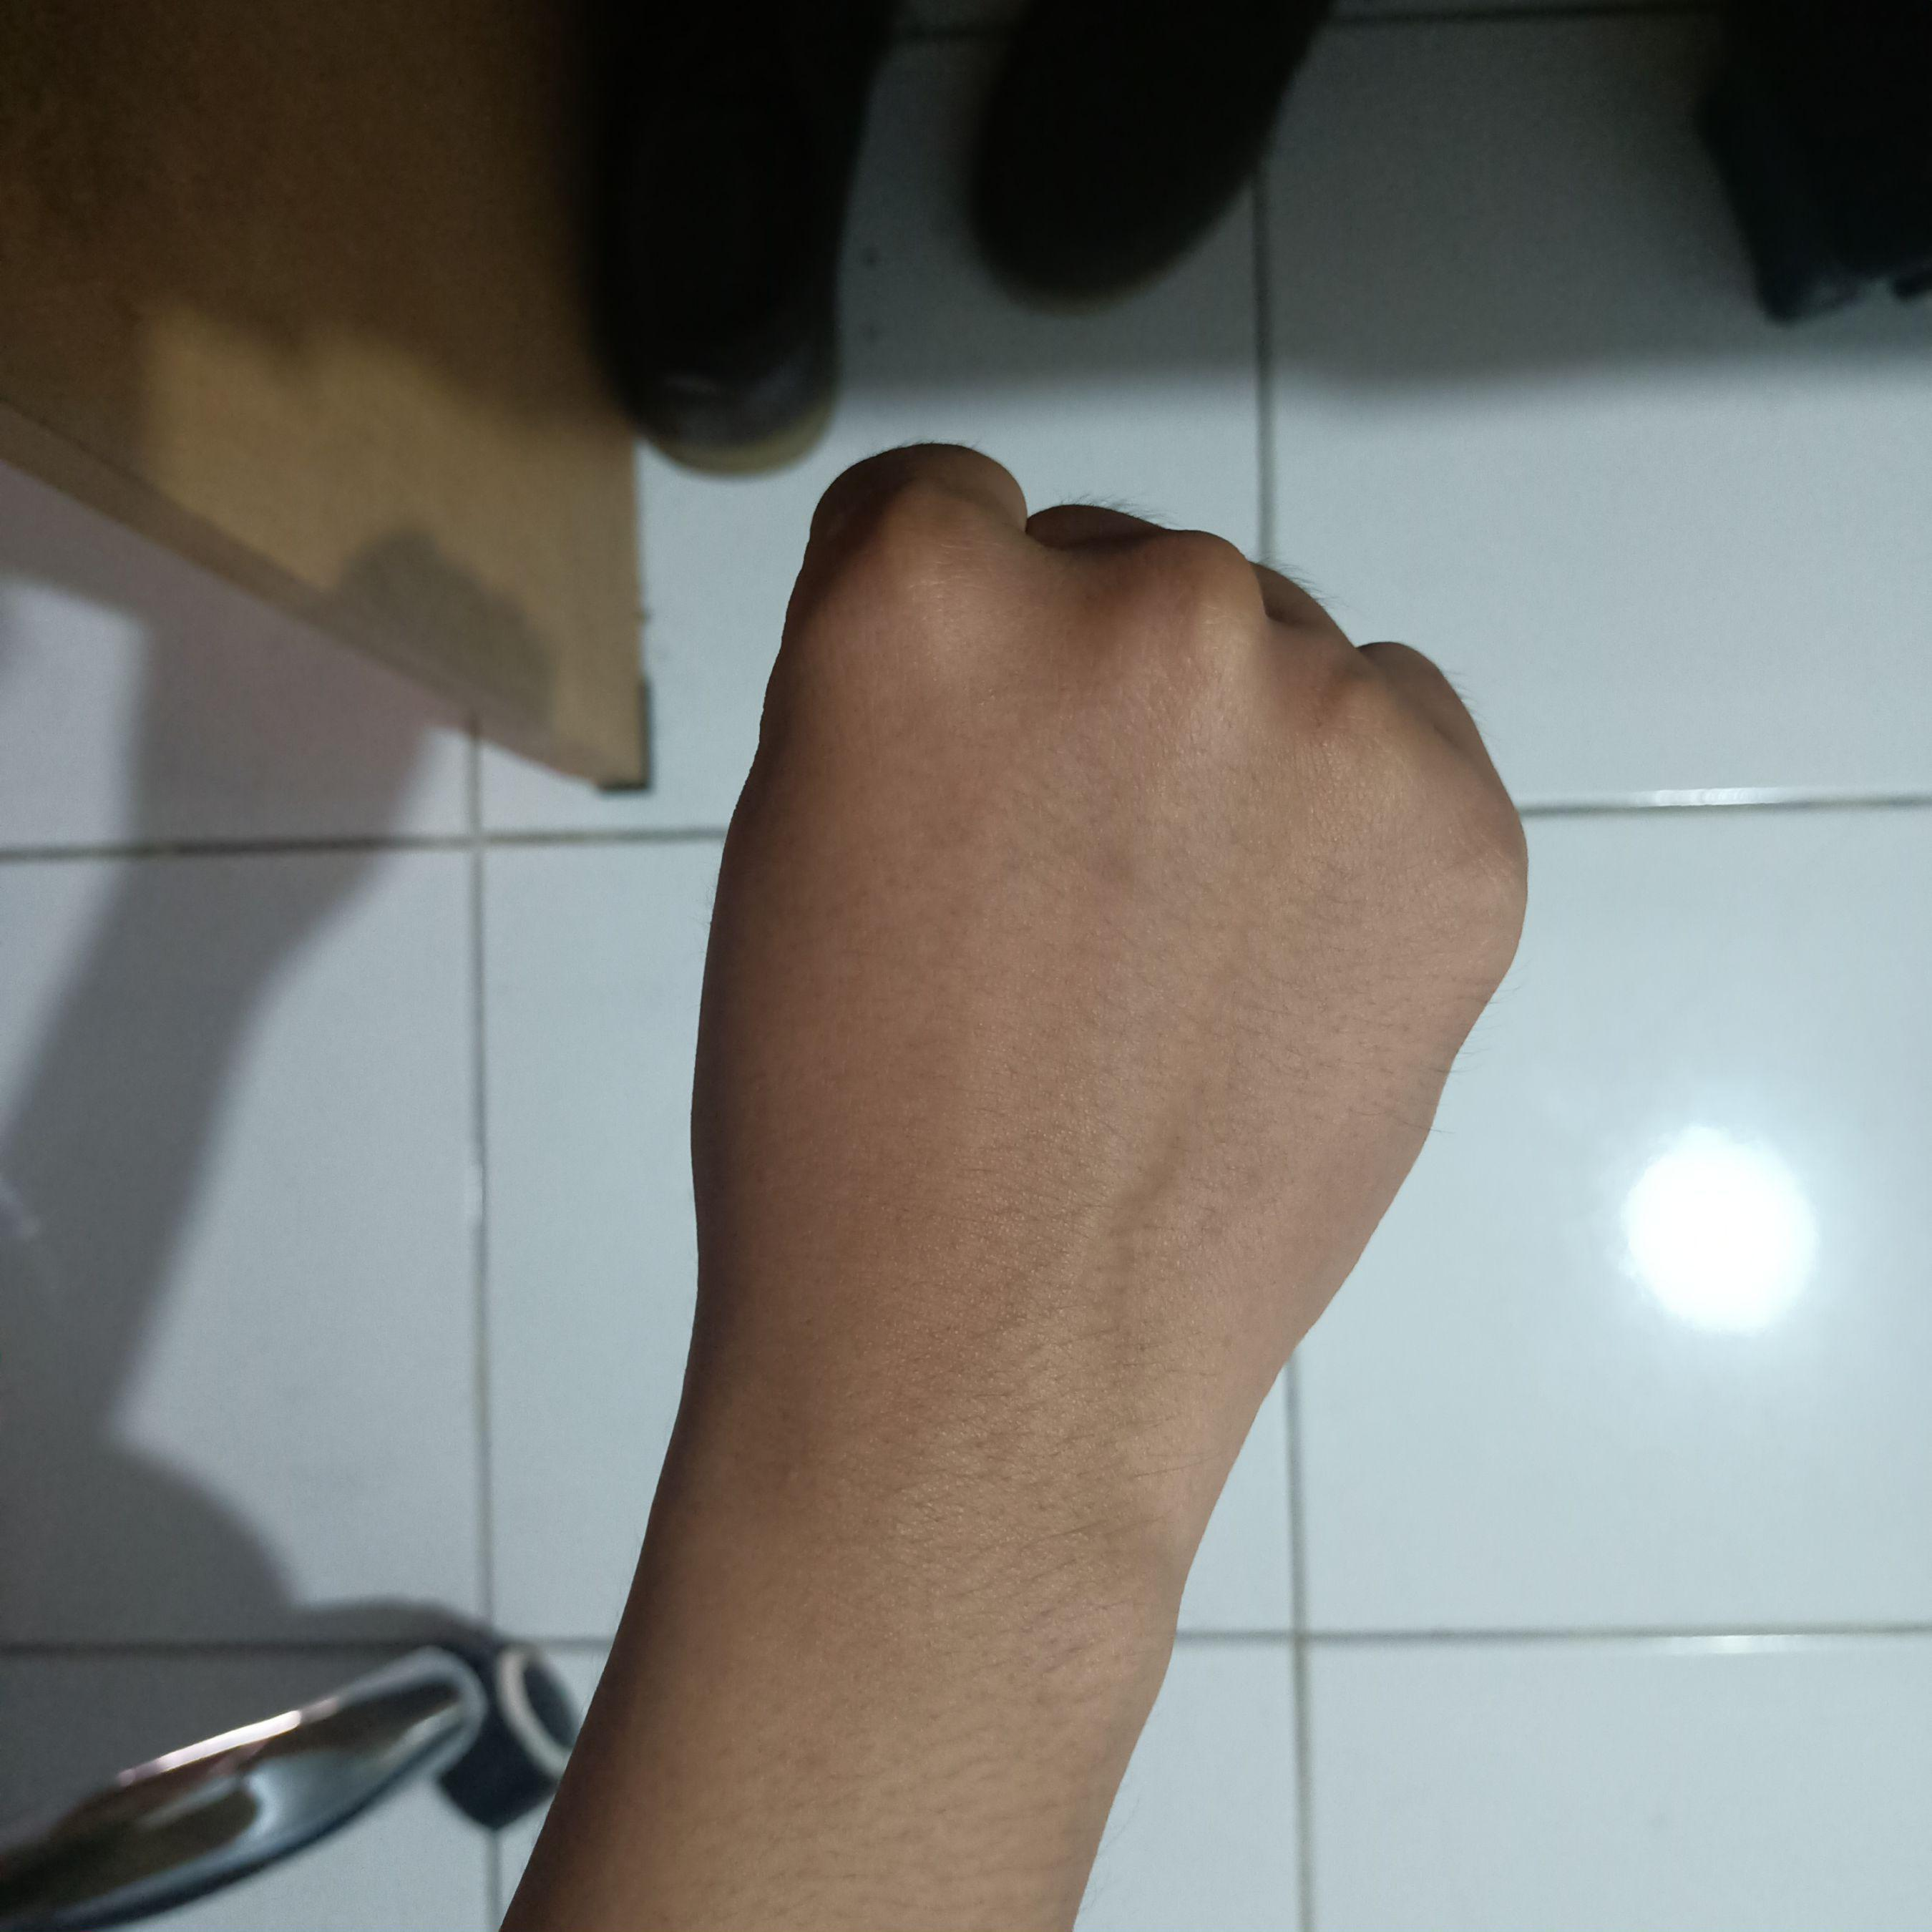rock: (692, 437, 1539, 1500)
